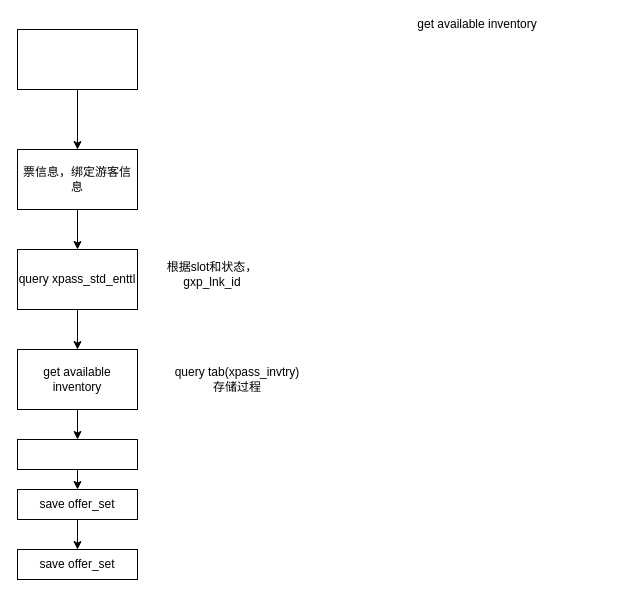
This 635x597 diagram has some shape labels left out. Here are the shapes that lost their labels. From the top down, the centre of each, then its label:
(x=77, y=59): operationDate
(x=77, y=454): save party_link
